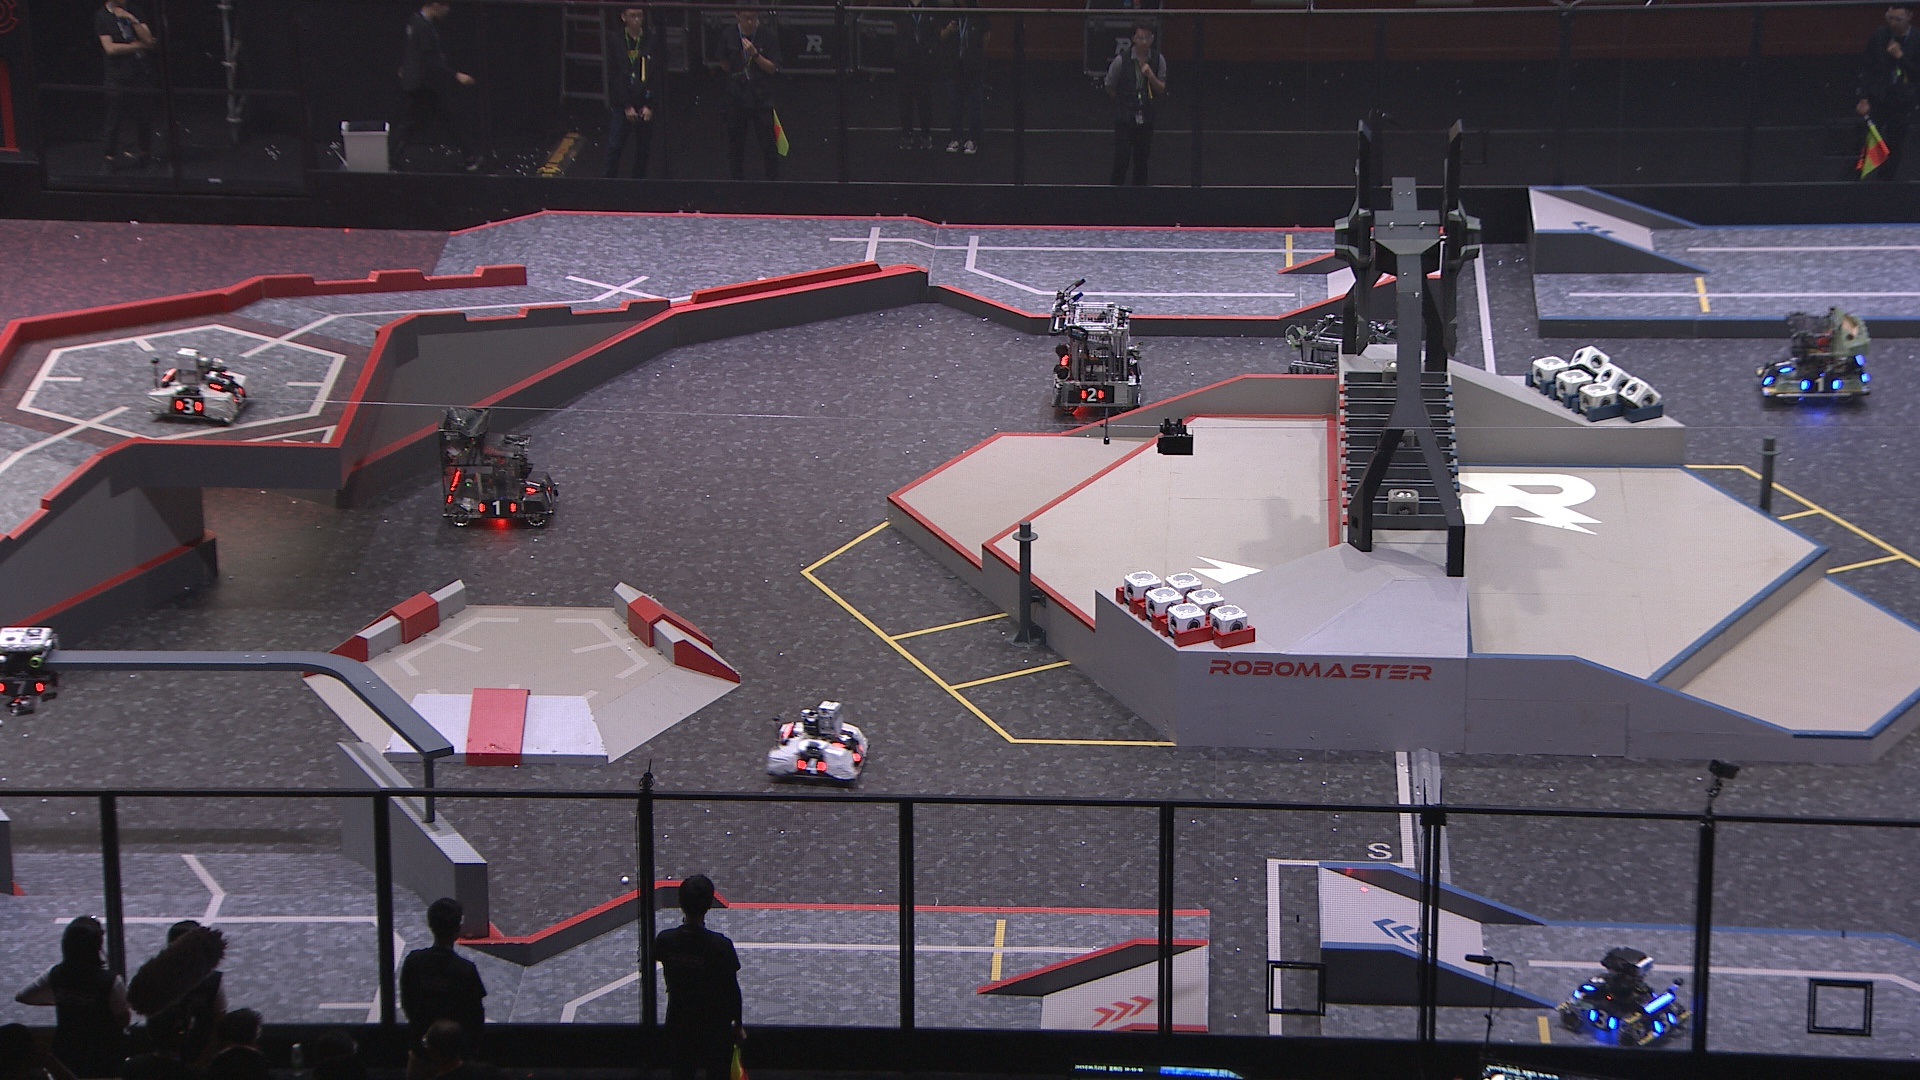armor: (1585, 1002, 1619, 1031), (476, 495, 516, 518), (1797, 376, 1841, 394), (1650, 1007, 1676, 1036), (171, 396, 206, 417), (1581, 972, 1611, 996), (796, 754, 828, 777), (1073, 384, 1106, 405), (210, 367, 235, 392), (518, 472, 541, 498), (828, 725, 852, 749), (1756, 363, 1779, 386), (225, 385, 248, 407), (847, 741, 868, 761), (1775, 353, 1793, 375), (541, 484, 558, 506)
car: (436, 404, 560, 527), (1555, 943, 1693, 1052), (1284, 310, 1419, 417), (1759, 301, 1874, 409), (1048, 295, 1149, 417), (764, 694, 873, 790), (141, 342, 255, 429)
